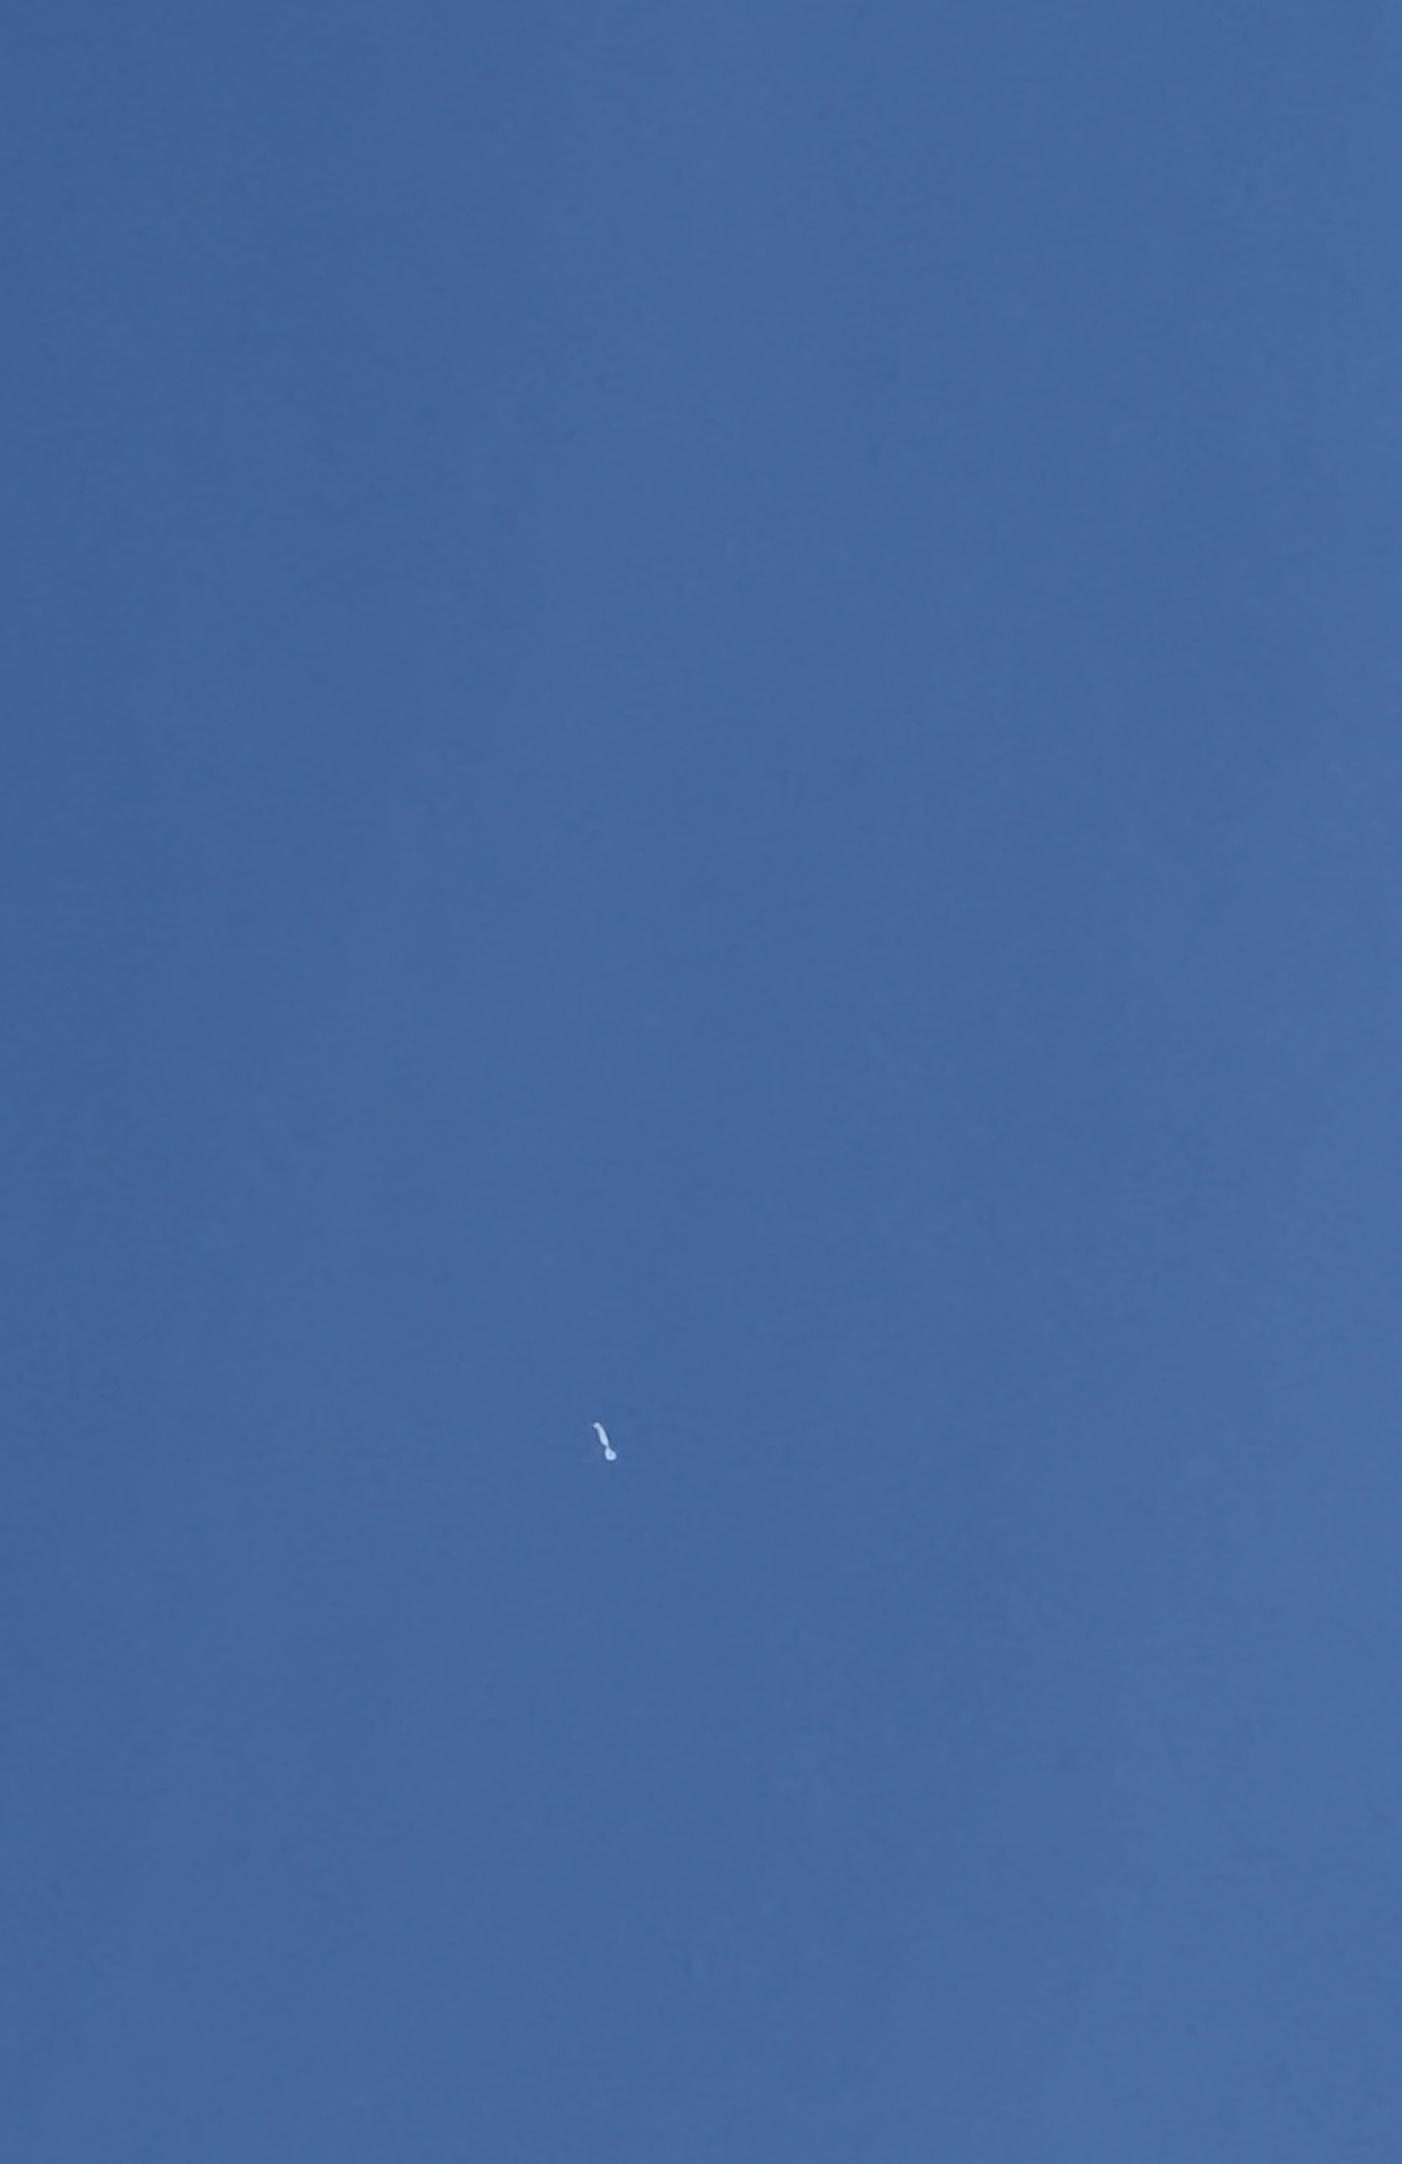Plane: (531, 1393, 675, 1506)
